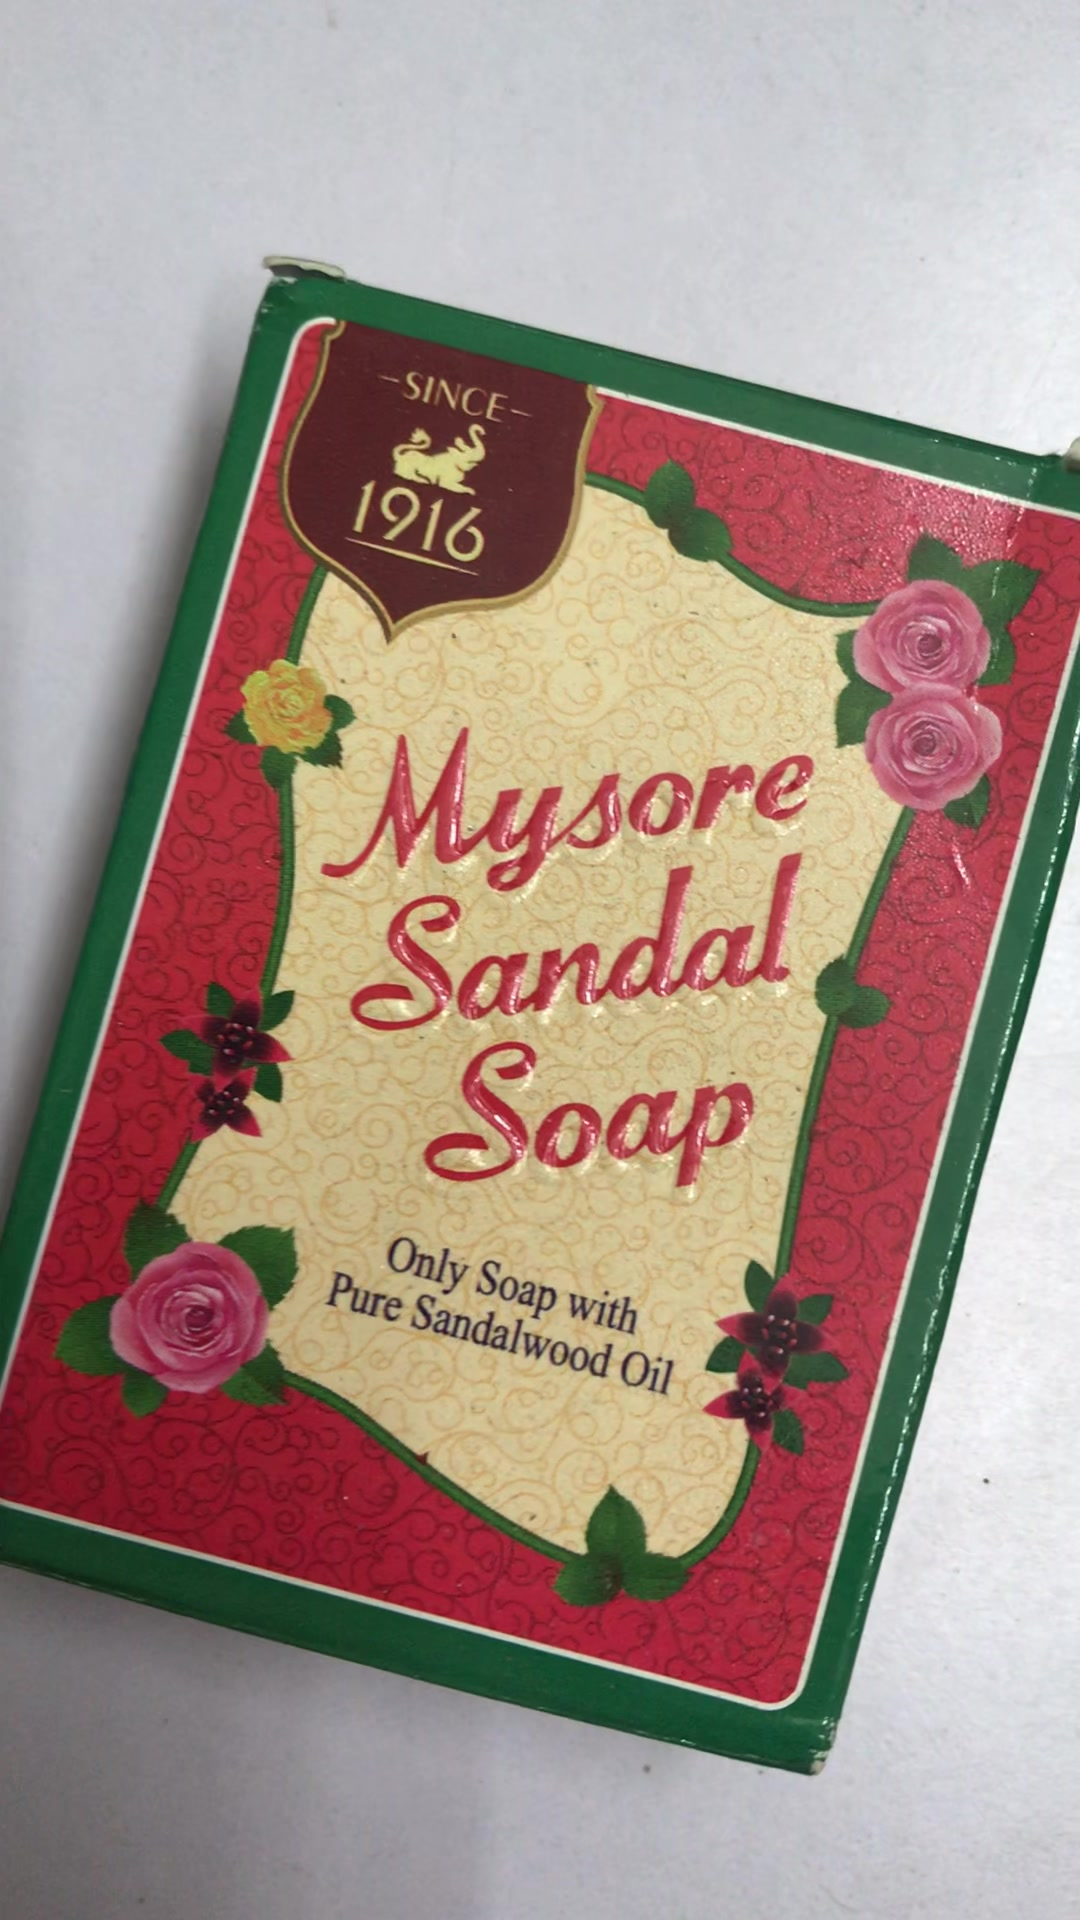mysore sandal soap: (11, 276, 1080, 1782)
